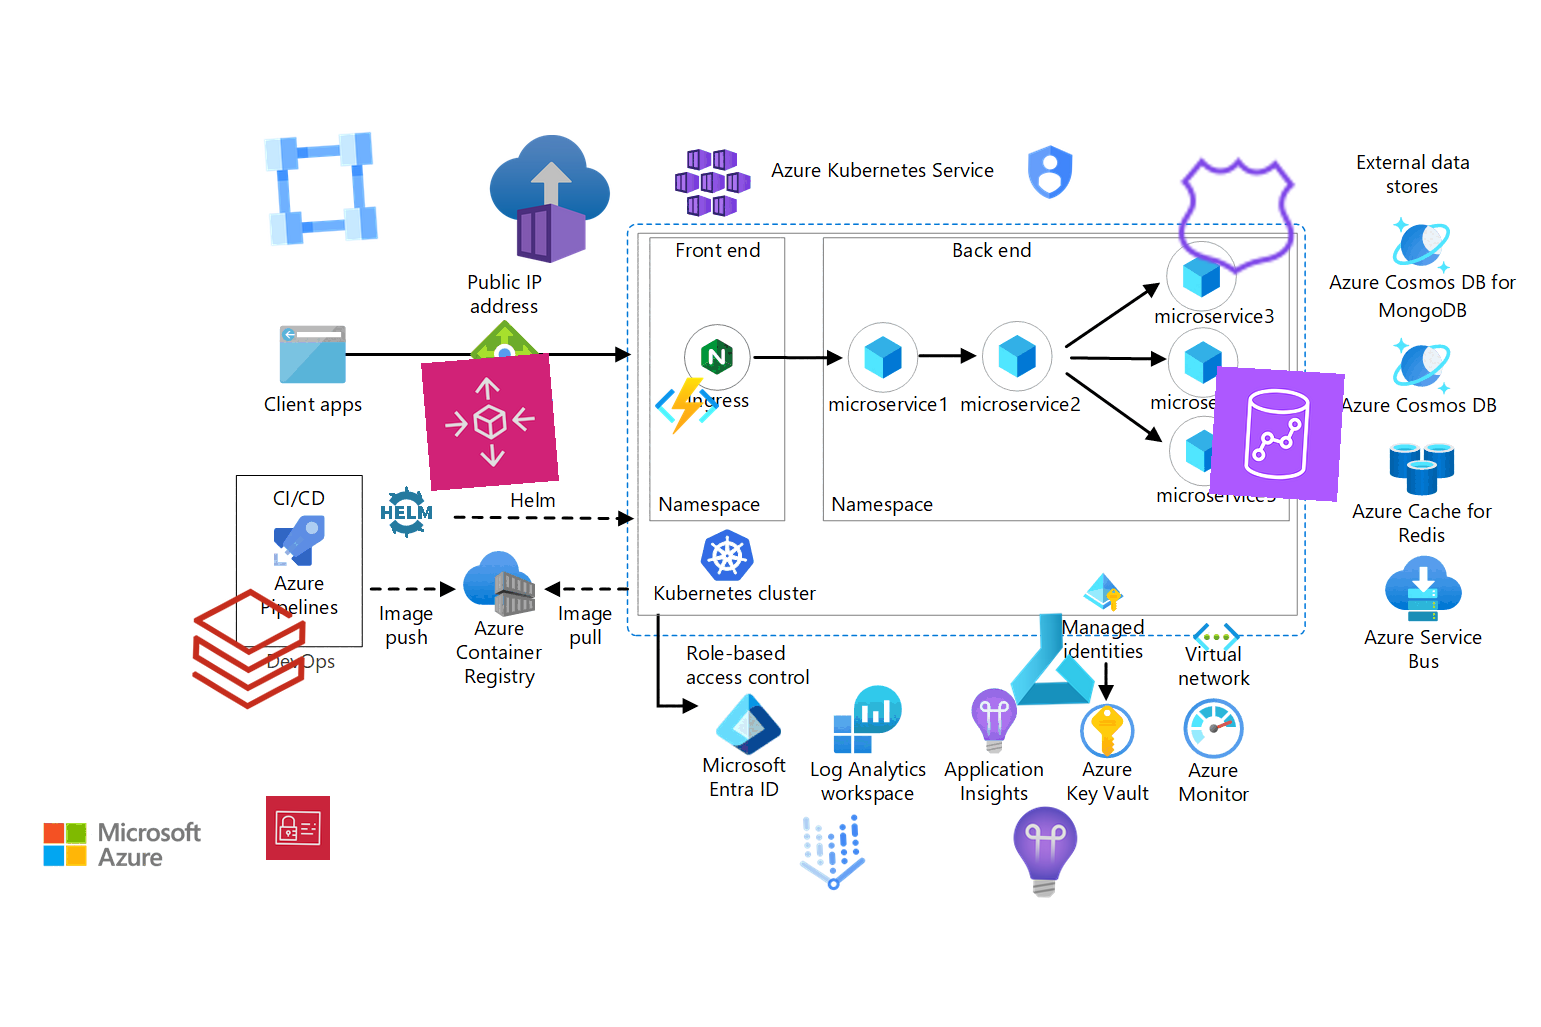aws_amazon_redshift: (1209, 366, 1345, 502)
aws_auto_scaling: (420, 353, 559, 491)
aws_identity_and_access_management: (265, 795, 331, 861)
aws_route_53_hosted_zone: (1172, 150, 1304, 282)
azure_application_insights: (994, 802, 1095, 902)
azure_container_instances: (485, 134, 615, 264)
azure_databricks: (183, 583, 315, 715)
azure_function_apps: (654, 373, 720, 439)
azure_machine_learning: (1003, 609, 1102, 710)
gcp_identity_and_access_management: (1017, 139, 1083, 205)
gcp_vertex_ai: (781, 802, 883, 904)
gcp_virtual_private_cloud: (252, 120, 390, 258)
